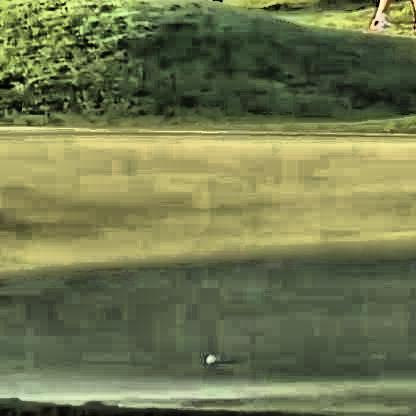golfball: (200, 353, 213, 364)
